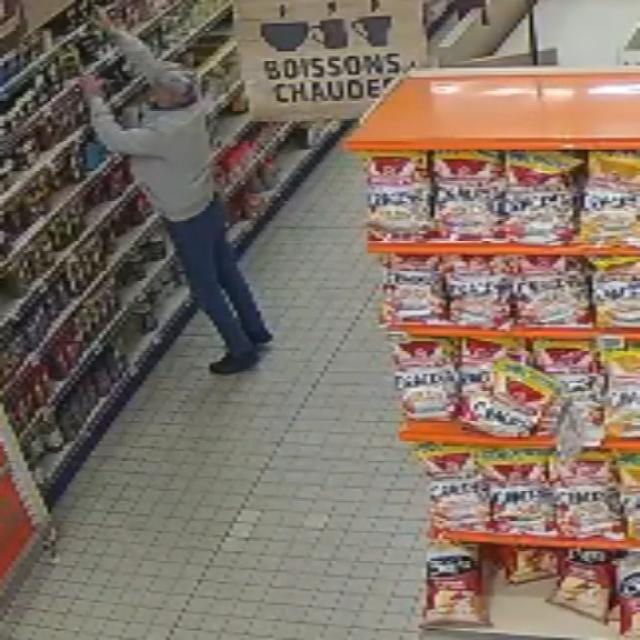hands: (80, 75, 103, 100), (95, 7, 116, 32)
person: (81, 13, 271, 374)
